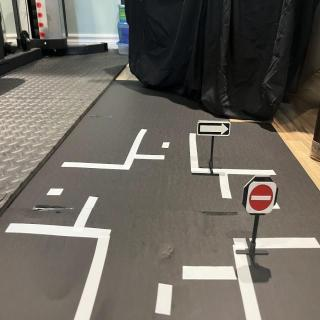sign_noentry: (247, 183, 277, 215)
sign_oneway_right: (198, 121, 232, 139)
